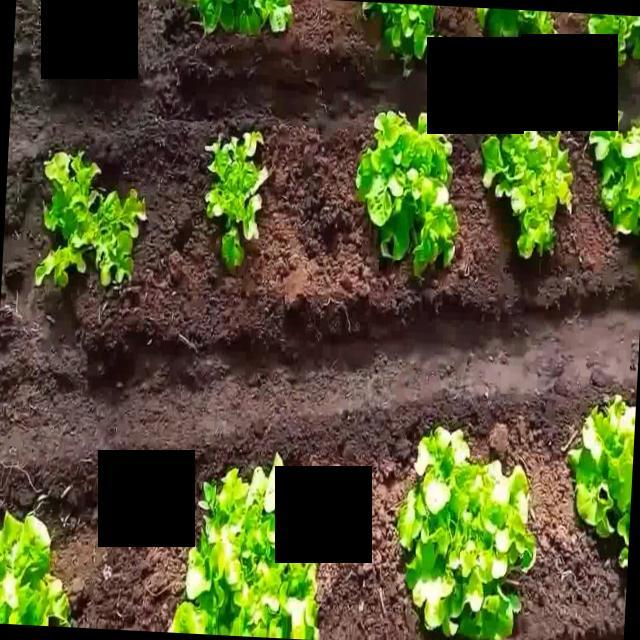Lettuce: (393, 423, 538, 640), (170, 455, 324, 640), (350, 108, 460, 280), (32, 148, 150, 294), (565, 394, 640, 568), (482, 126, 574, 266), (204, 130, 275, 268), (0, 504, 72, 627), (584, 123, 640, 238), (366, 0, 440, 66), (190, 0, 292, 46), (578, 4, 640, 68), (476, 1, 559, 38)
